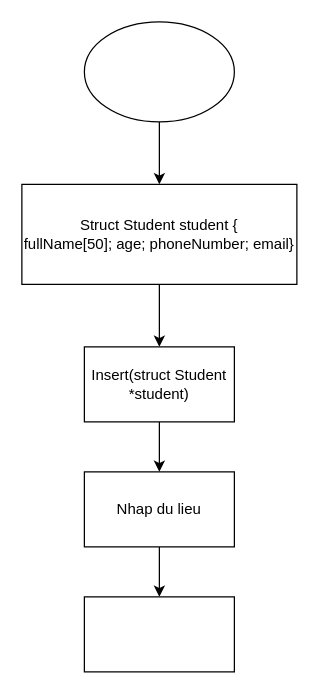
The diagram is 319 pixels wide and 694 high, and some of its shapes have lost their labels. Here are the shapes that lost their labels. From the top down, the centre of each, then its label:
At (x=158, y=71): "Start".
At (x=158, y=634): "print(struct Student student)".
